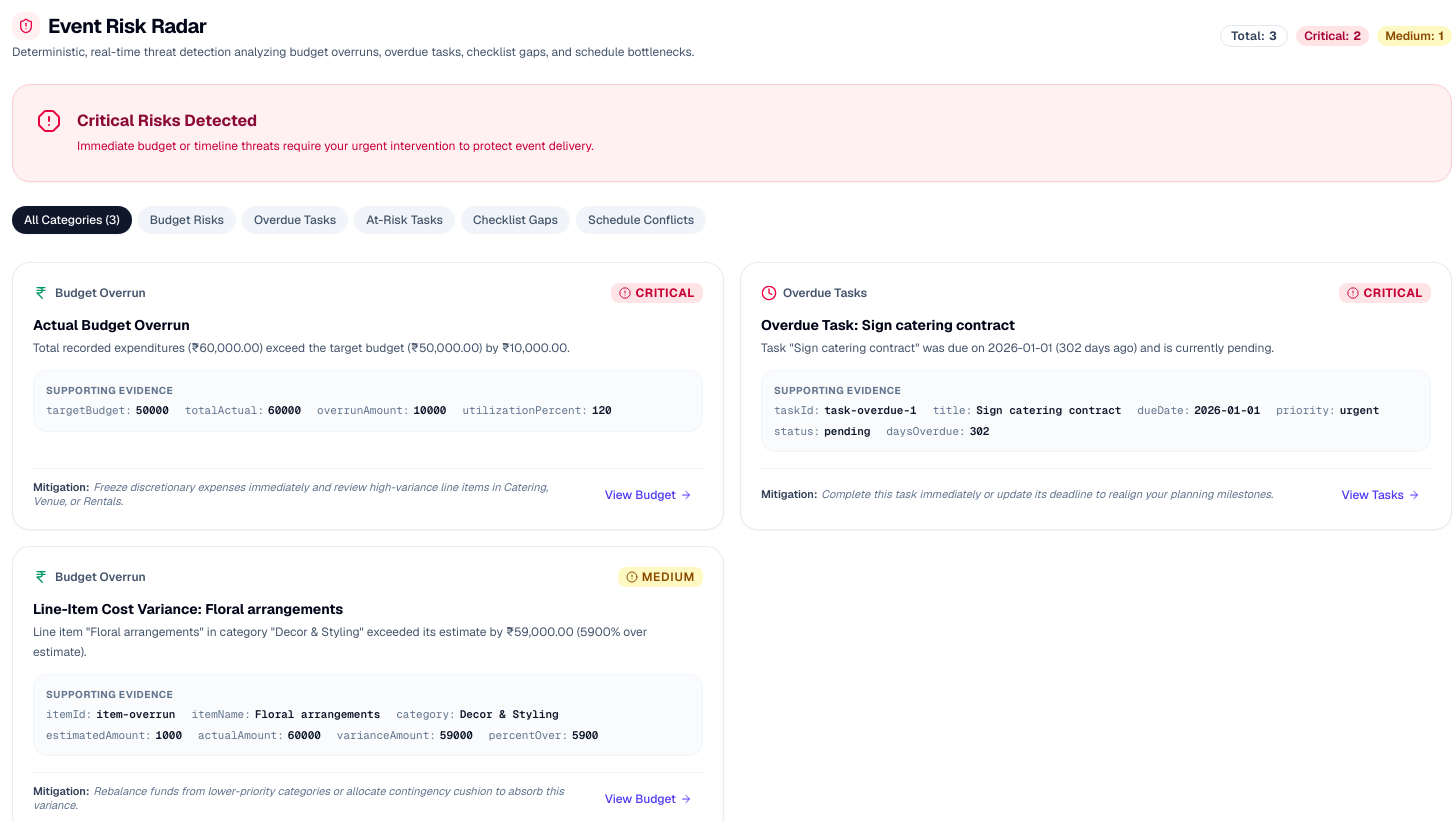
Test: EventRiskRadar Component › Interactive Category Filtering › interactively filters risk cards when selecting category tabs
This screenshot has width=1452, height=822.
Check: the heading "Actual Budget Overrun" is shown, box [33, 316, 190, 334]
Check: the heading "Overdue Task: Sign catering contract" is shown, box [761, 316, 1015, 334]
Note: Click "Overdue Tasks" category tab
Step 1. Click the tab "Overdue Tasks" → [295, 220], box [242, 206, 348, 234]
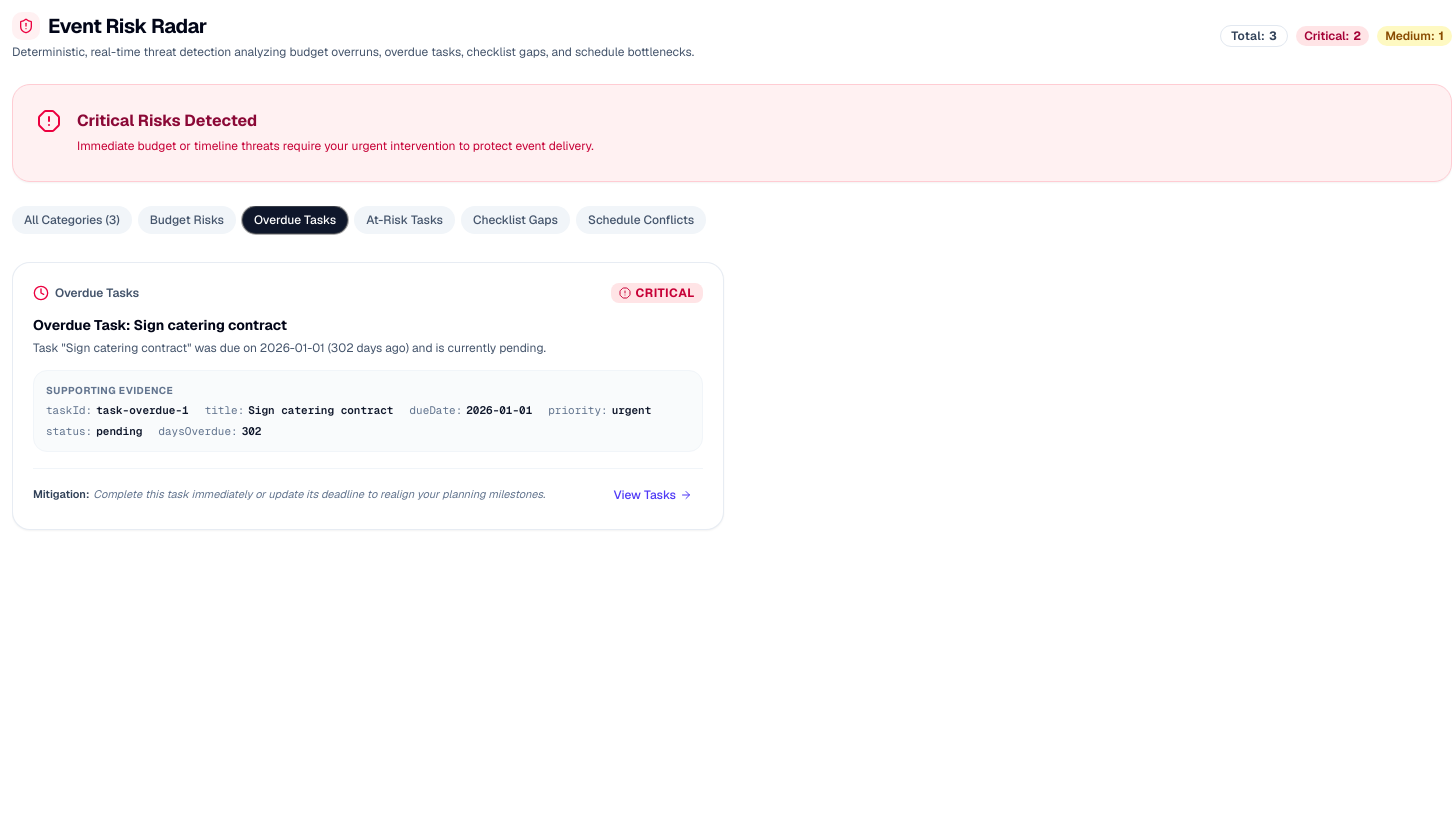
Check: the heading "Overdue Task: Sign catering contract" is shown, box [33, 316, 287, 334]
Check: the heading "Actual Budget Overrun" is gone
Note: Click "All Categories" tab
Step 2. Click the tab "All Categories (3)" → [72, 220], box [12, 206, 132, 234]
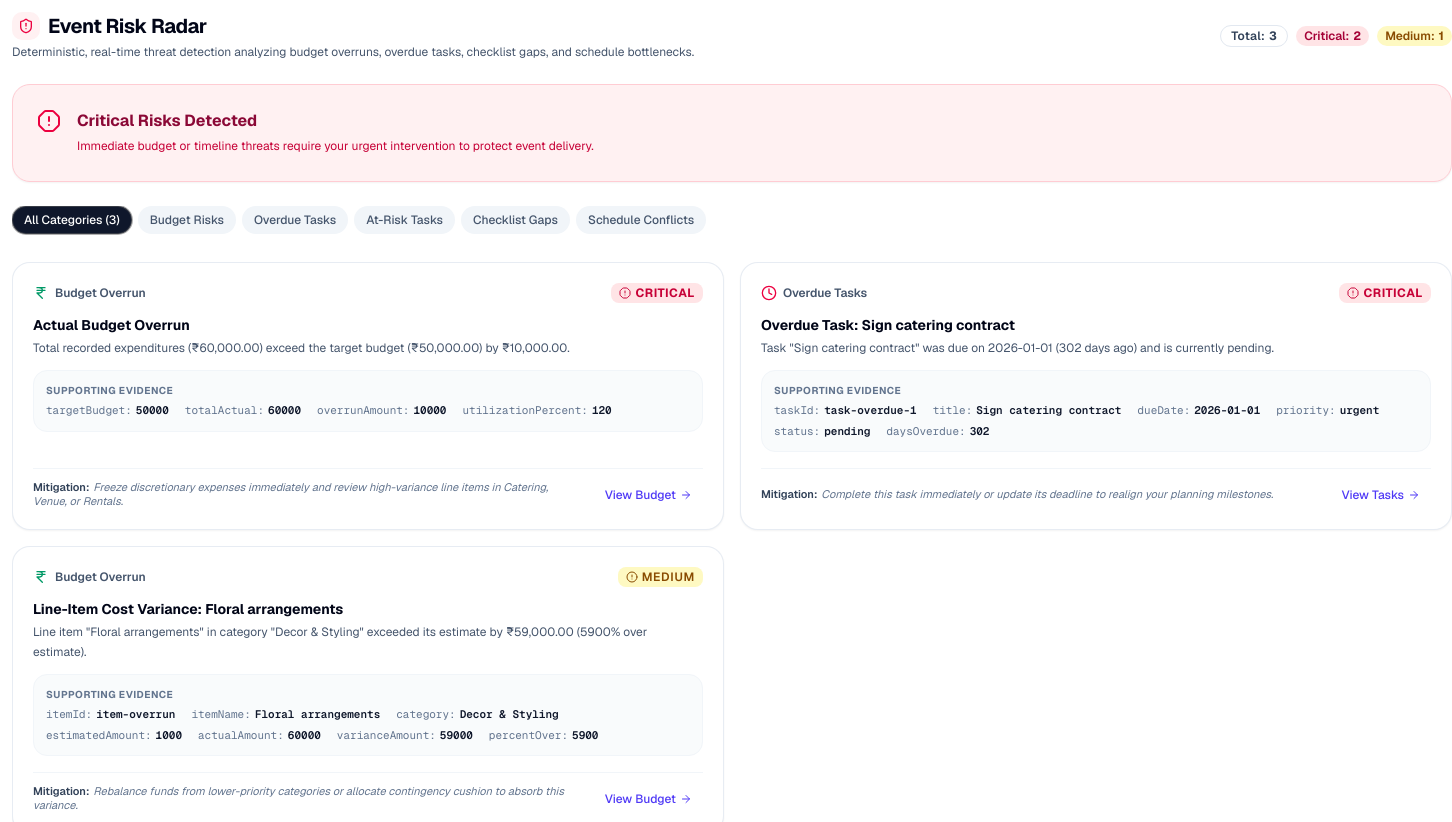
Check: the heading "Overdue Task: Sign catering contract" is shown, box [761, 316, 1015, 334]
Check: the heading "Actual Budget Overrun" is shown, box [33, 316, 190, 334]
